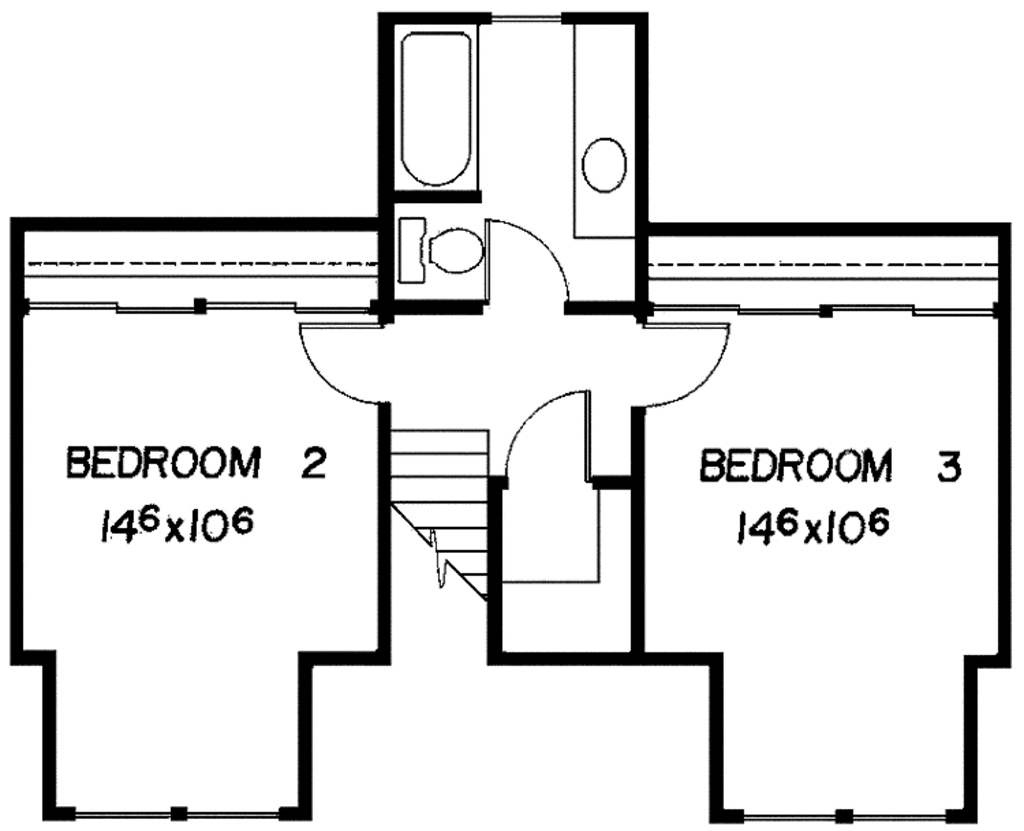door: (501, 388, 606, 492), (284, 316, 396, 402), (642, 325, 742, 406), (487, 214, 570, 306)
large_sink: (399, 209, 484, 299)
stairs: (385, 418, 492, 643)
tub: (388, 16, 488, 201)
window: (182, 796, 292, 826), (852, 802, 944, 824), (494, 7, 560, 34), (77, 805, 174, 823), (746, 811, 844, 823)
